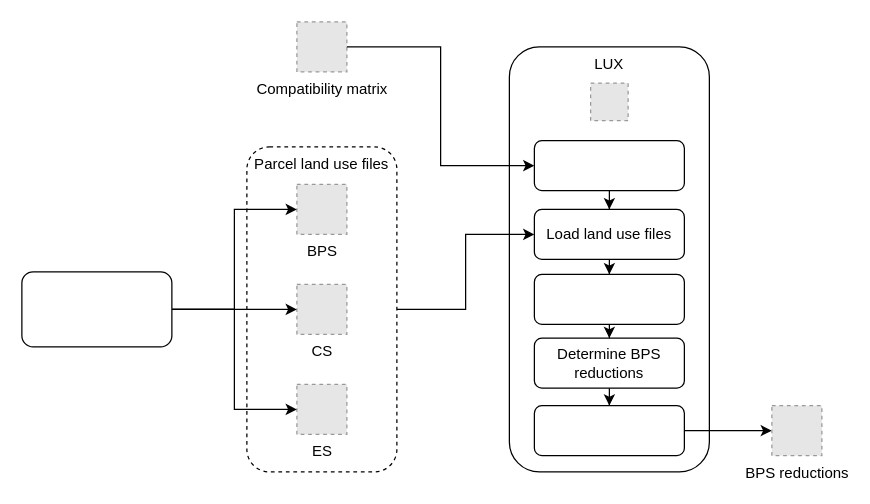
The diagram is 870 pixels wide and 504 high, and some of its shapes have lost their labels. Grey dashed boxes stand in for pictures. Each missing label, with the centre of its shape:
"Create reduction output" goes at point 608,430.
"Data Warehouse" goes at point 96,309.
"Identify conflicts" goes at point 608,298.
"Load compatibility matrix file" goes at point 608,165.
